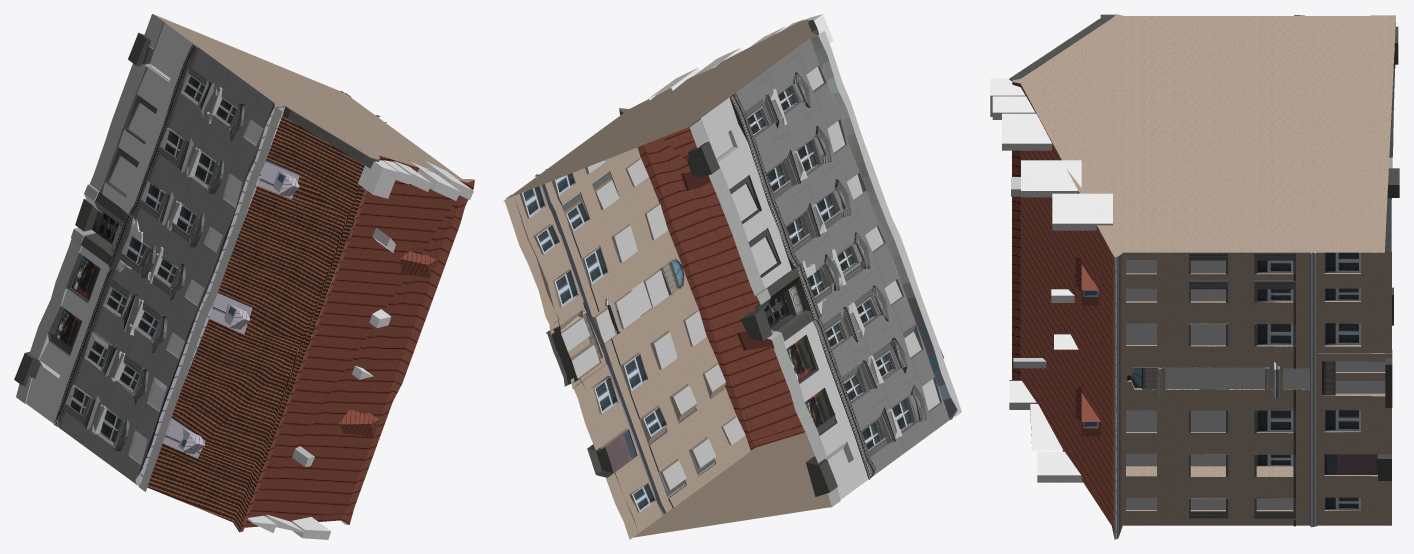
The model's file is Harju_5-origo.obj.
The picture shows the model from 3 angles, left to right: view 1: azimuth 30°, elevation 25°; view 2: azimuth 150°, elevation 25°; view 3: azimuth 270°, elevation 25°; orthographic projection. The views are drawn at different scales.
Visible parts, largest first — view 1: Harju_5; view 2: Harju_5; view 3: Harju_5.
Part boxes in pixels (x1=…): Harju_5: x1=14, y1=14, x2=474, y2=539; Harju_5: x1=503, y1=14, x2=961, y2=539; Harju_5: x1=990, y1=14, x2=1399, y2=539.
Bounding box in the file's own units: 21.94 × 27 × 20.64.
